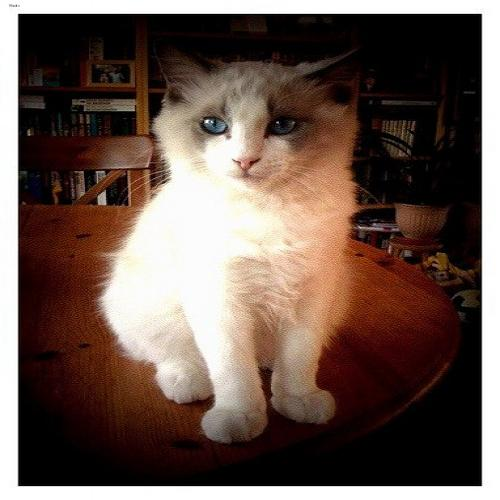ragdoll: (136, 36, 394, 211)
